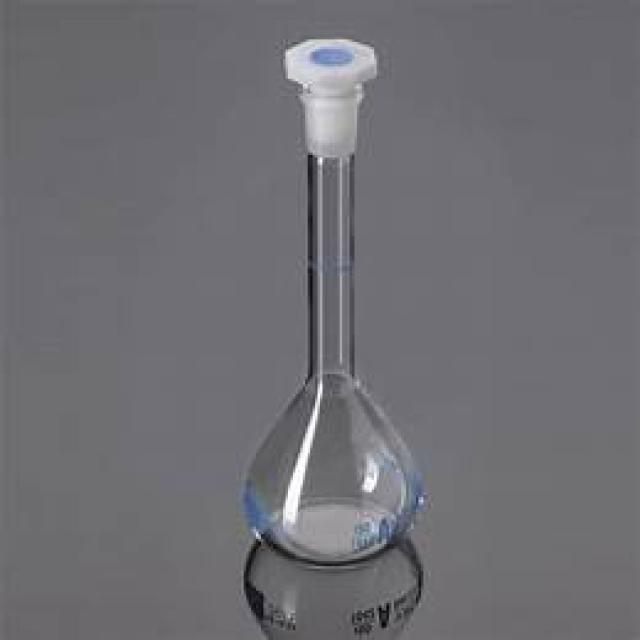Volumetric flask: (240, 26, 437, 563)
